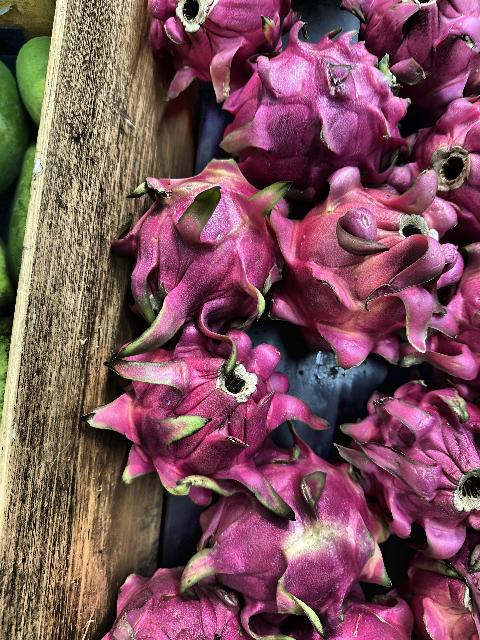buah-naga-belum-matang: (272, 164, 442, 353), (114, 142, 278, 334), (195, 455, 396, 609)
buah-naga-matang: (93, 320, 313, 496), (220, 36, 406, 182), (342, 372, 480, 554), (346, 1, 480, 98), (102, 556, 244, 640), (142, 0, 288, 76), (412, 94, 480, 234), (400, 542, 480, 640), (436, 234, 480, 376)
